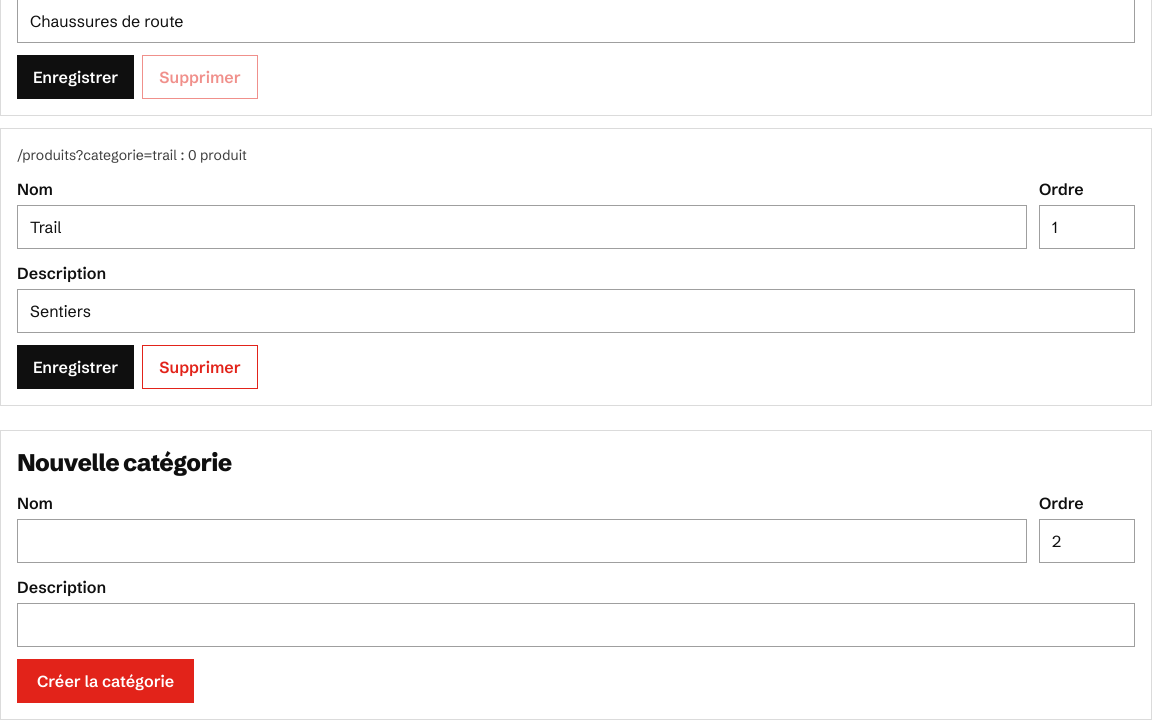
Test: CategoryManager (EA03) › création refusée par l'API : message affiché, pas de rafraîchissement
The image size is (1152, 720).
(page scrolled)
Type "Route" into the field with id "new-category-name". click: (522,541)
box: [17,519,1027,563]
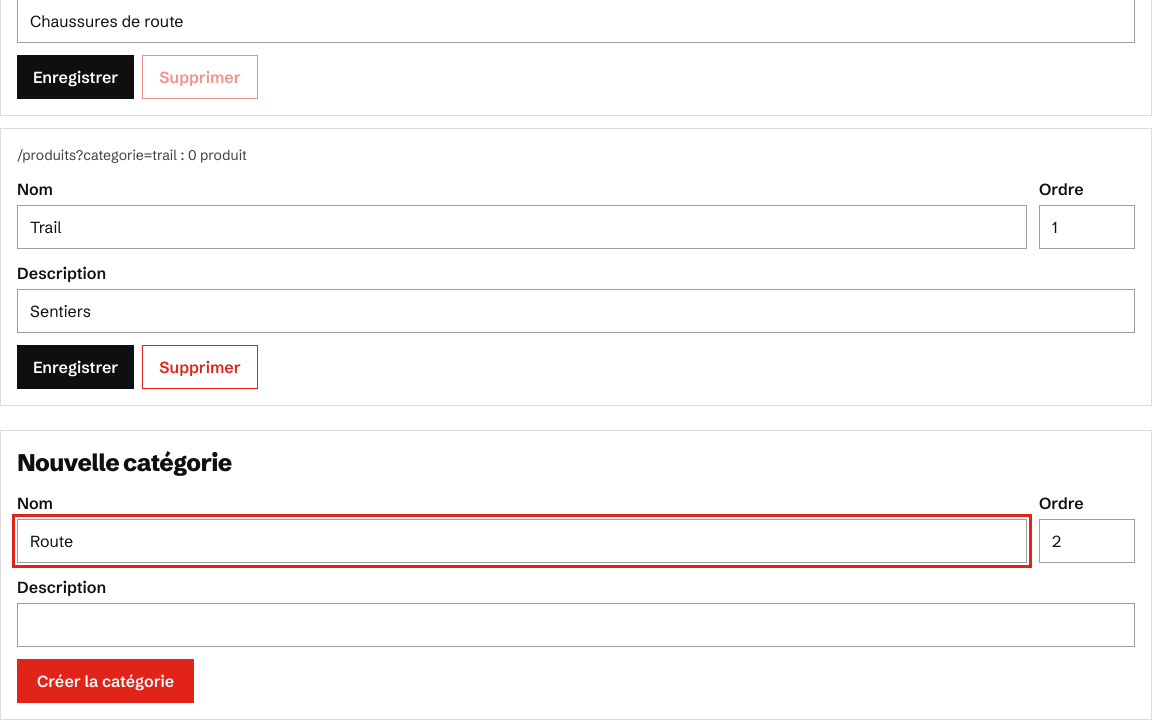
Type "Doublon" into the field with id "new-category-description". click: (576,625)
box: [17,603,1135,647]
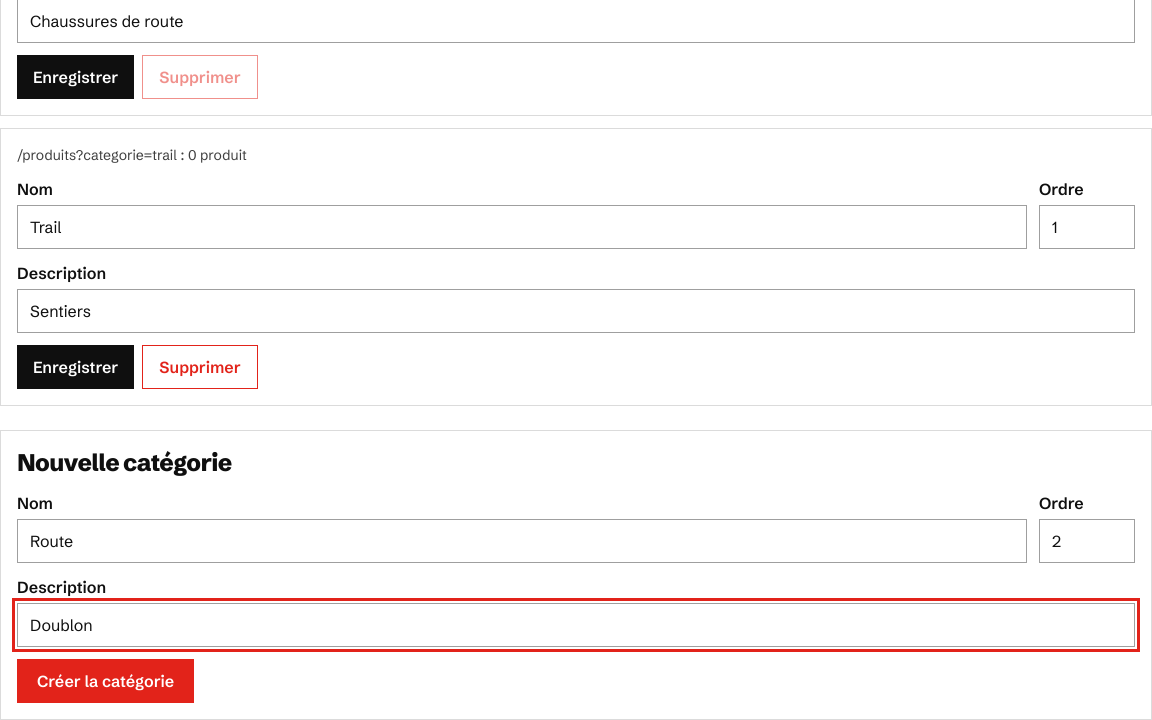
Click the button "Créer la catégorie". click: (106,681)
box: [17,659,194,703]
(page scrolled)
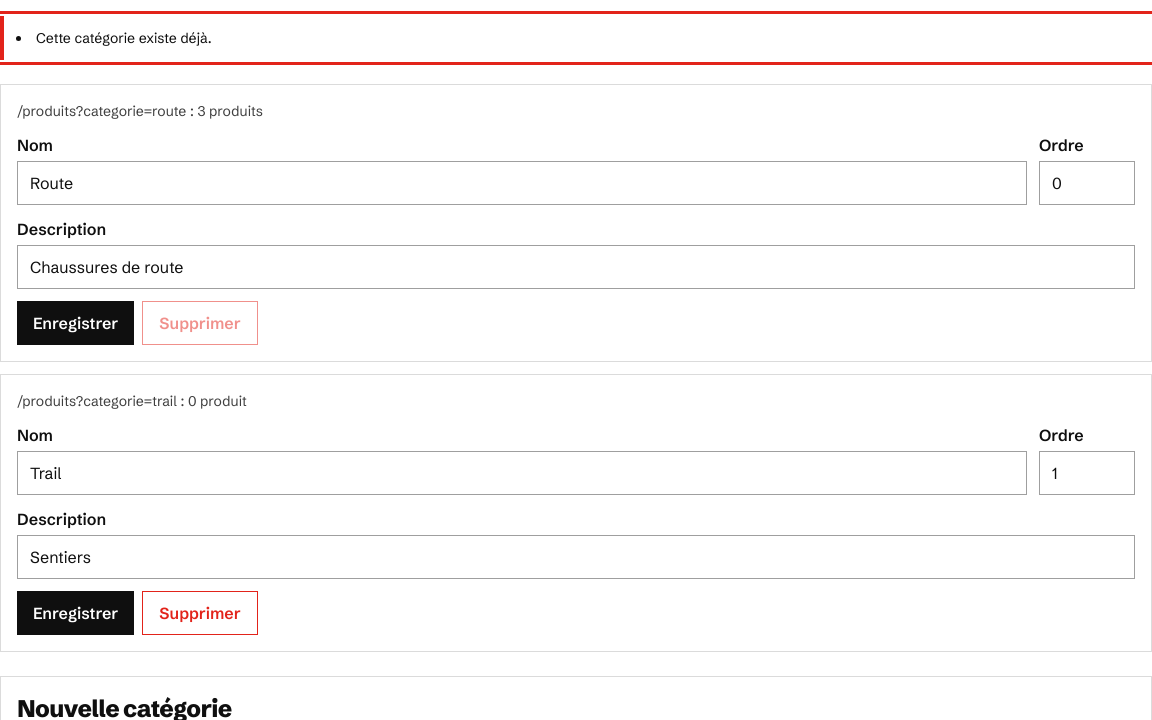
expect the message shows "existe déjà": met, box [36,29,212,47]
